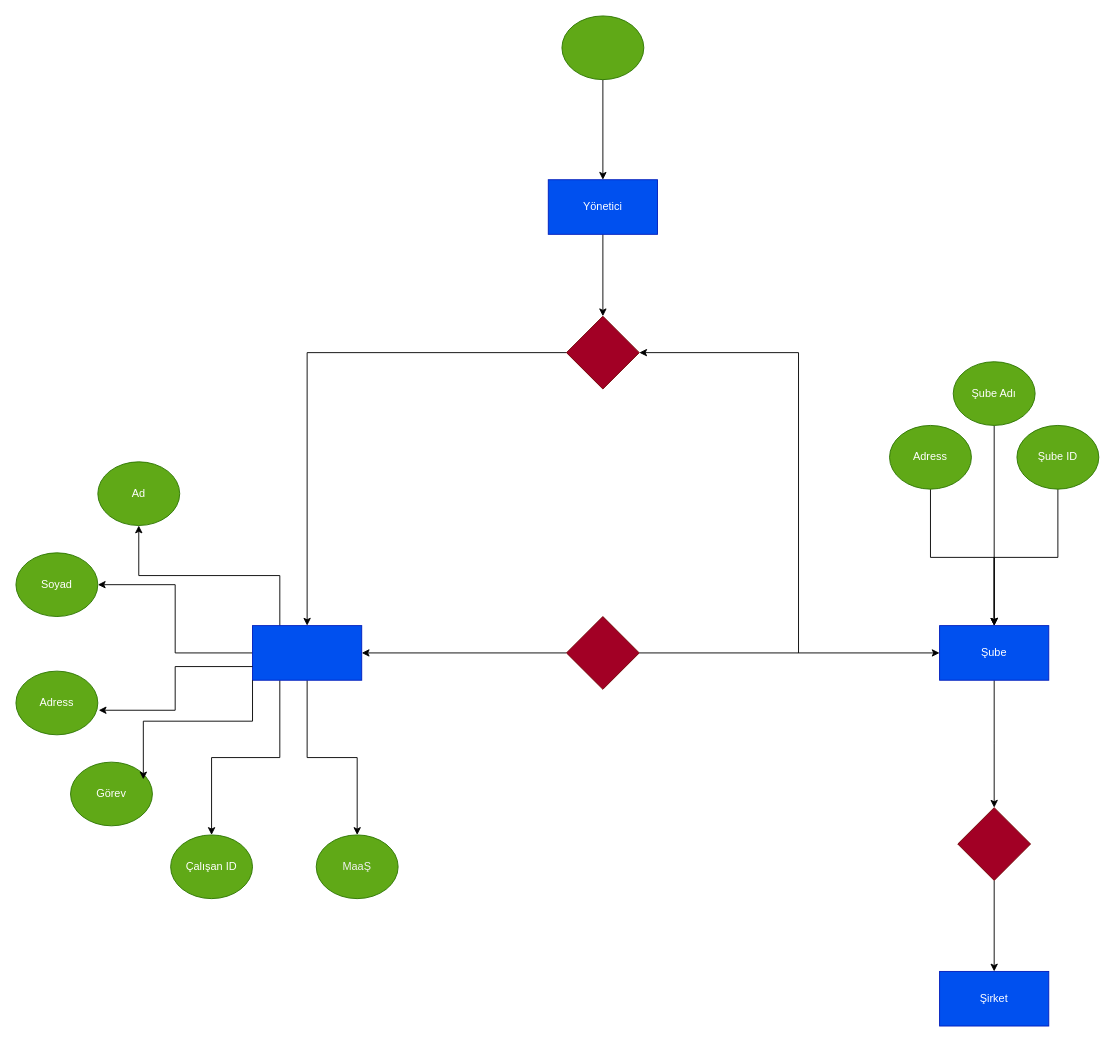
Image size: 1115x1042. Some labels were removed from this diagram. The centre of each missing label's shape, as x and y in pixels:
Sahip olur: (x=994, y=843)
Yönetici ID: (x=602, y=47)
Yönetir: (x=602, y=352)
Çalışan: (x=307, y=652)
Çalışır: (x=602, y=652)
